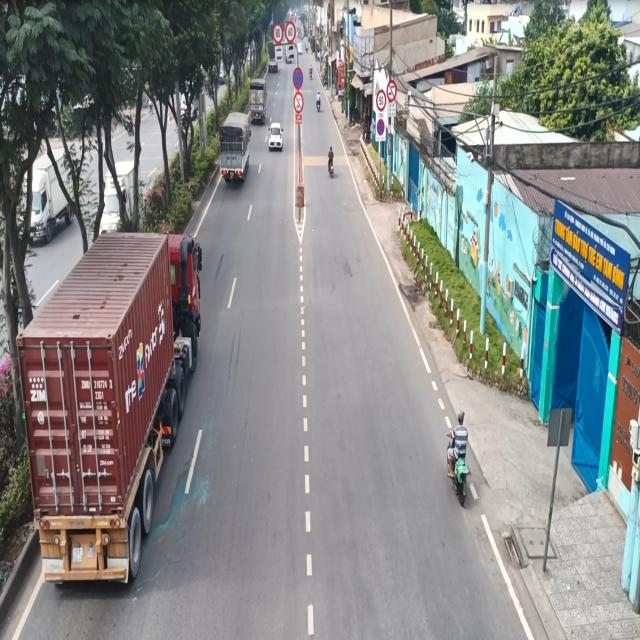car: (266, 116, 283, 159)
motor: (323, 144, 337, 181)
truck: (17, 211, 210, 608), (218, 108, 252, 188), (246, 75, 268, 127)
